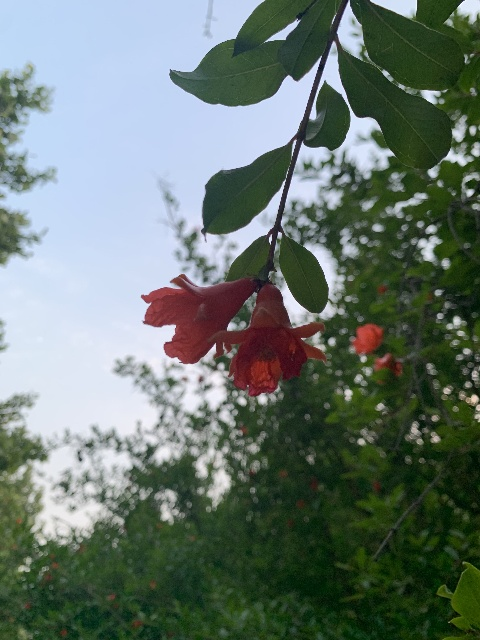flower: (219, 282, 327, 397), (140, 273, 256, 364)
